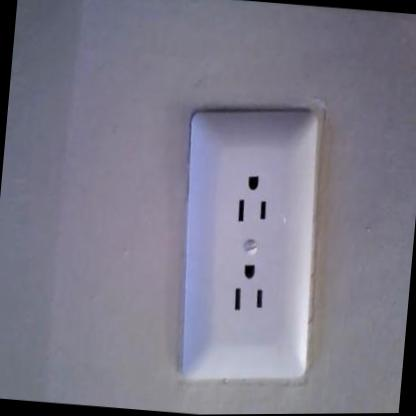OUTLET: (166, 98, 334, 387)
